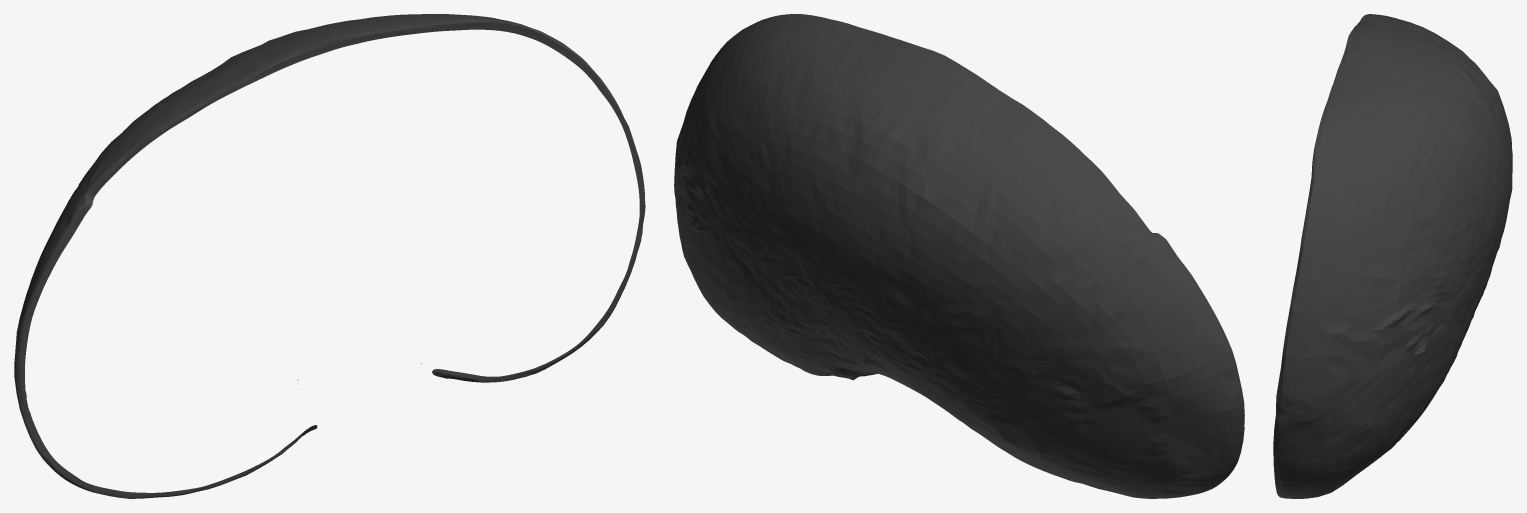
The model's file is canine_kidney_capsule.glb.
The picture shows the model from 3 angles, left to right: view 1: azimuth 30°, elevation 25°; view 2: azimuth 150°, elevation 25°; view 3: azimuth 270°, elevation 25°; orthographic projection. The views are drawn at different scales.
Visible parts, largest first — view 1: canine_kidney_capsule; view 2: canine_kidney_capsule; view 3: canine_kidney_capsule.
Part boxes in pixels (box(x1,y1,x2,y2)): canine_kidney_capsule: box(14, 14, 645, 498); canine_kidney_capsule: box(674, 14, 1244, 498); canine_kidney_capsule: box(1273, 14, 1512, 498).
Size of the model in its own units: 0.6395 by 0.417 by 0.2147.
1 material, 1 textured.
